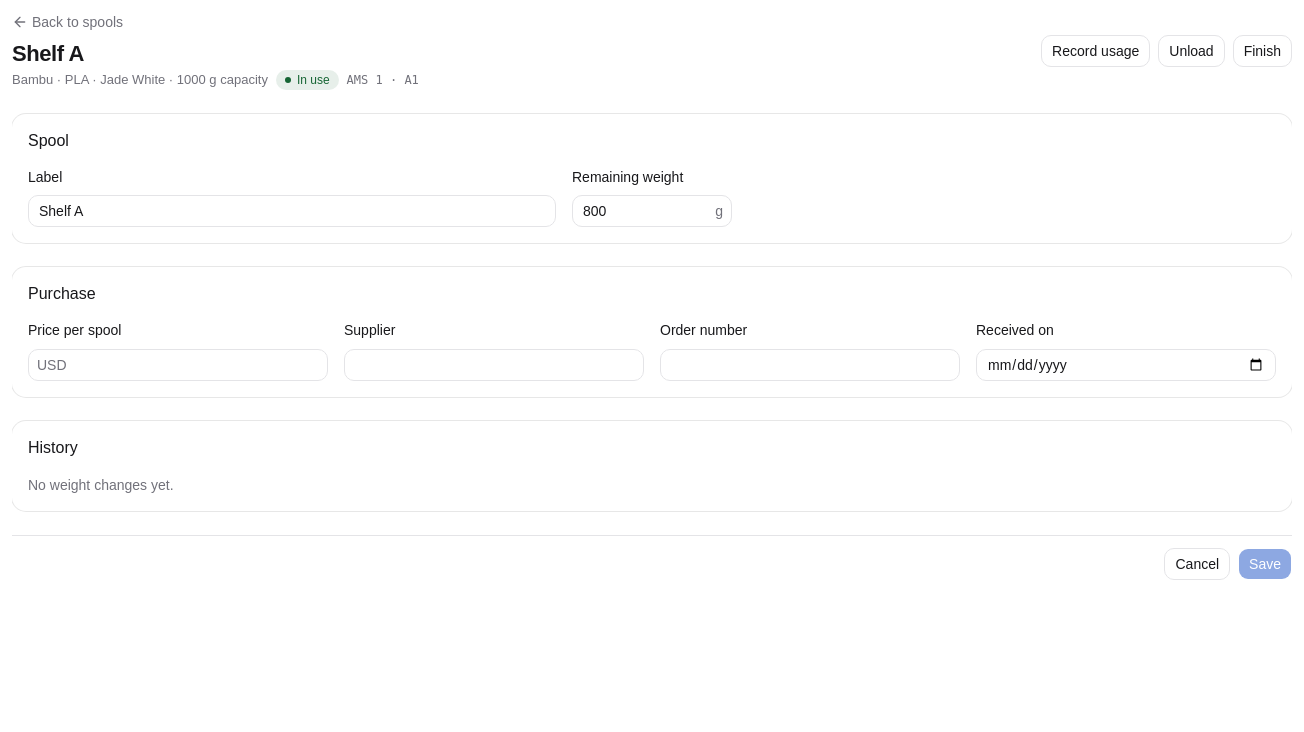
Test: SpoolDetailPage › does not send a reason when only the label changes
The width and height of the screenshot is (1304, 732).
Type "x" into the field labelled "Label".
click(292, 211); type("x")  # box [28, 195, 556, 227]
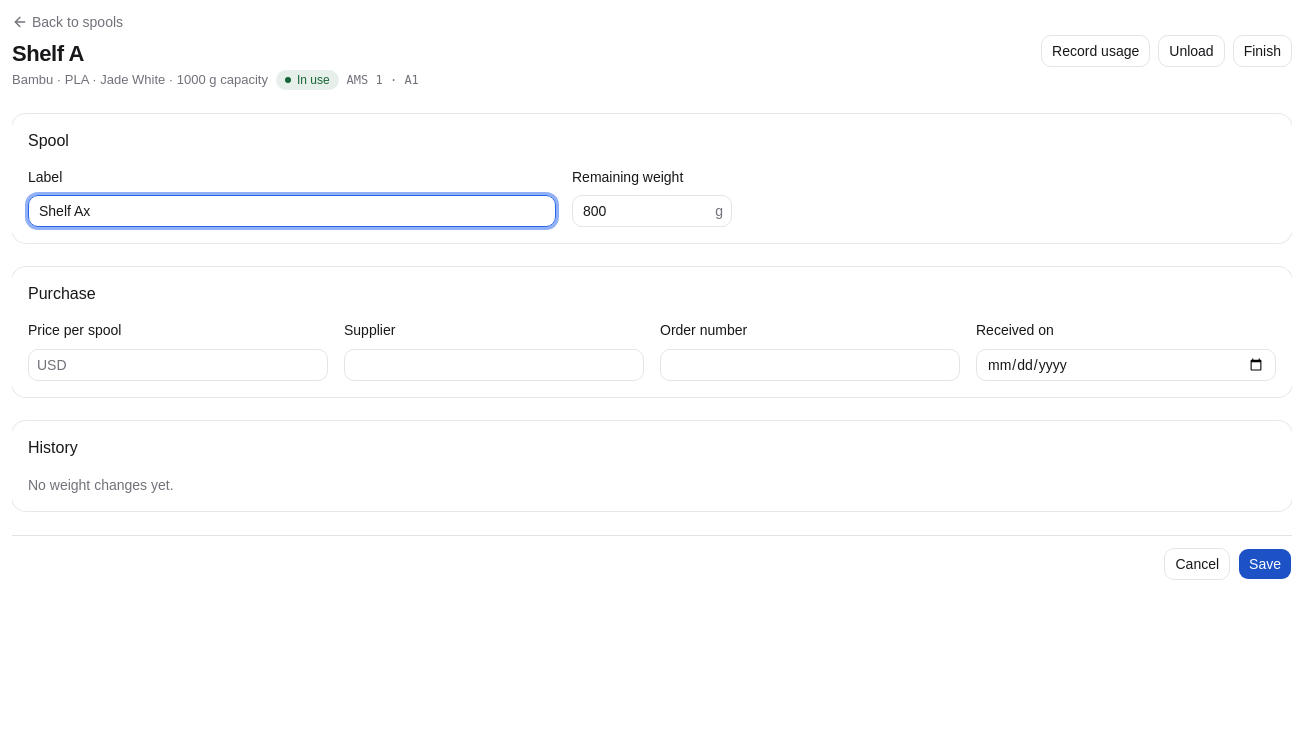
Click the button "Save".
click(1265, 564)  # box [1238, 548, 1292, 580]
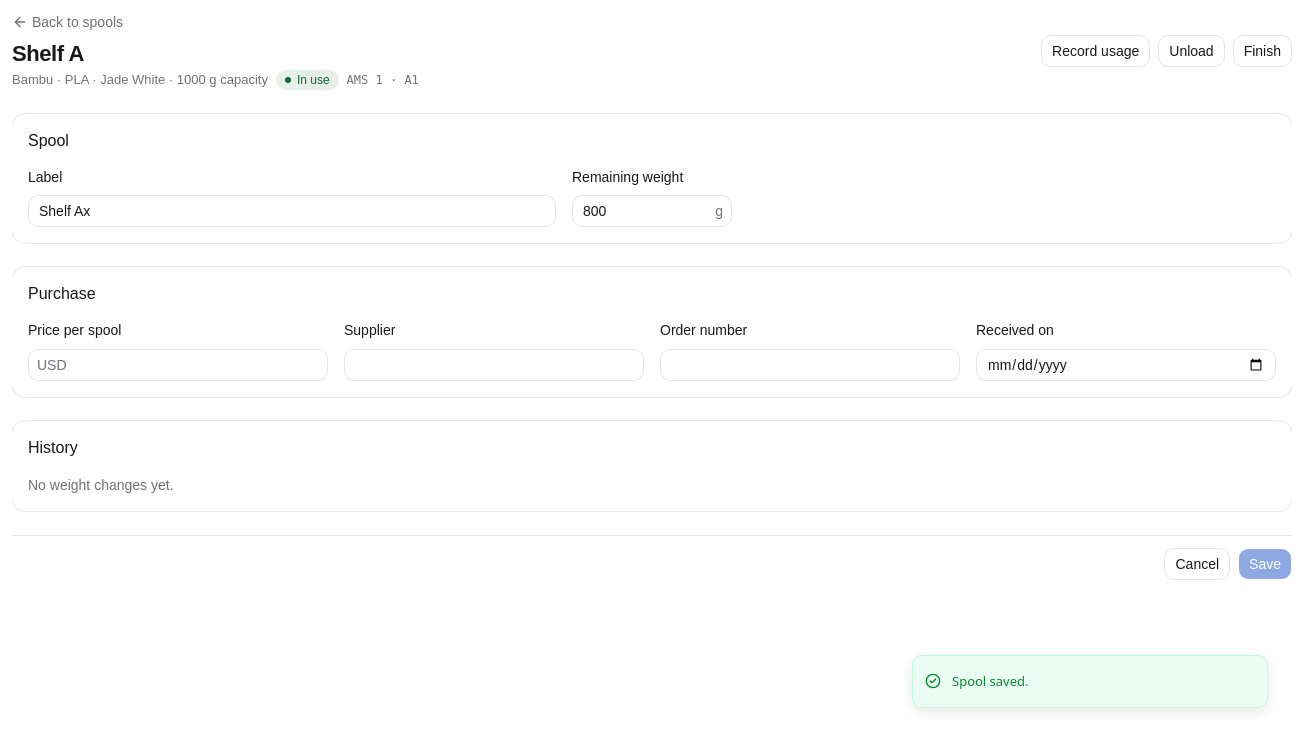
expect the text "Spool saved." is shown: met, box [952, 672, 1028, 691]
